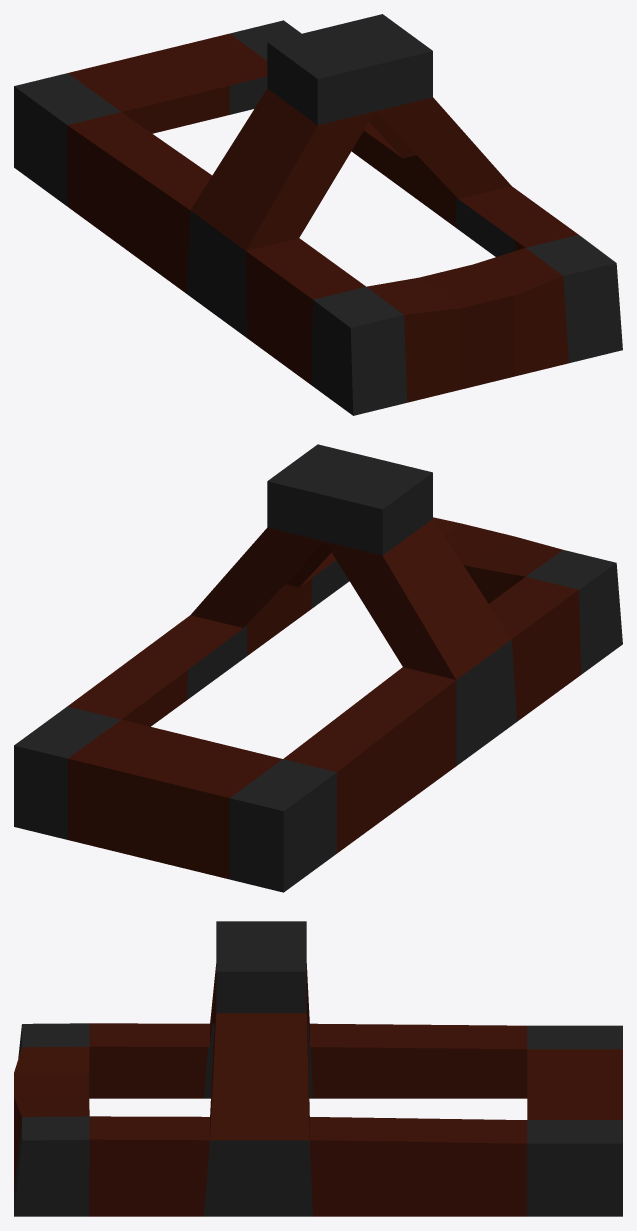
The model's file is balista_body.obj.
3 views of the same model, one above another, from view 1: azimuth 30°, elevation 25°; view 2: azimuth 150°, elevation 25°; view 3: azimuth 270°, elevation 25° (orthographic). The views are drawn at different scales.
Visible parts, largest first — view 1: balista_body; view 2: balista_body; view 3: balista_body.
Boxes of the visible parts, <box> form: balista_body: <box>14,14,622,415</box>; balista_body: <box>14,444,622,892</box>; balista_body: <box>14,921,622,1216</box>.
Bounding box in the file's own units: 0.3778 × 0.3153 × 0.8233.
